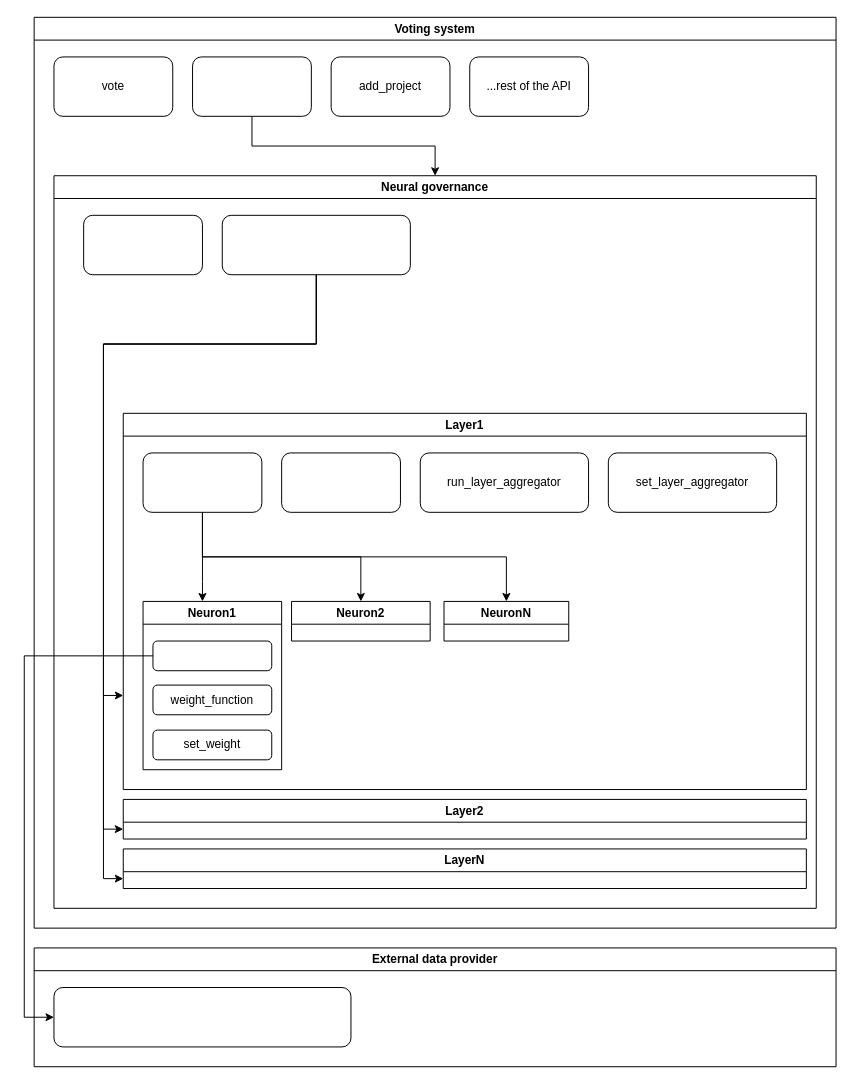
This 853x1084 diagram has some shape labels left out. The centre of each missing label's shape, as x and y in pixels:
add_layer: (142,244)
add_neuron: (340,482)
execute_layer: (202,482)
execute_neural_governance: (315,244)
oracle_function: (212,655)
some functions fetching the specified data...: (202,1017)
tally: (251,86)
